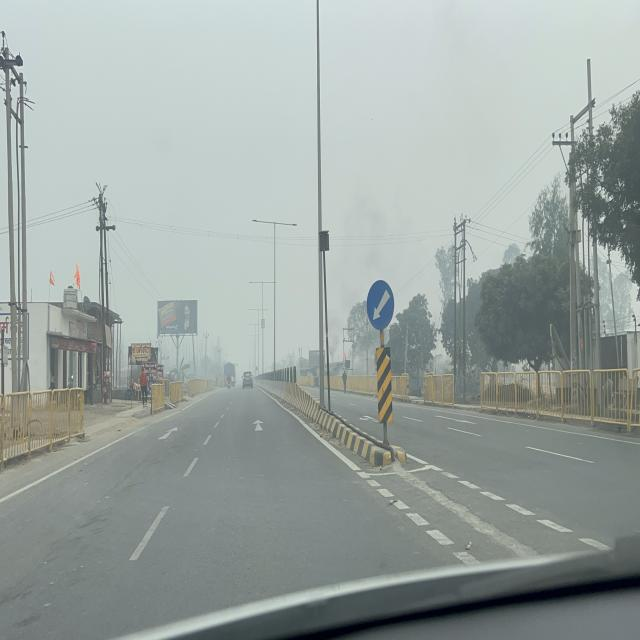KEEP_LEFT: (366, 279, 394, 330)
